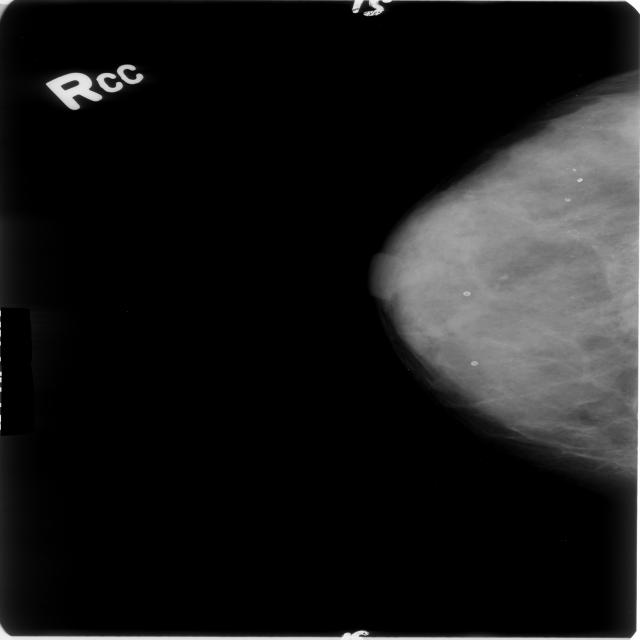normal: (355, 63, 640, 485)
